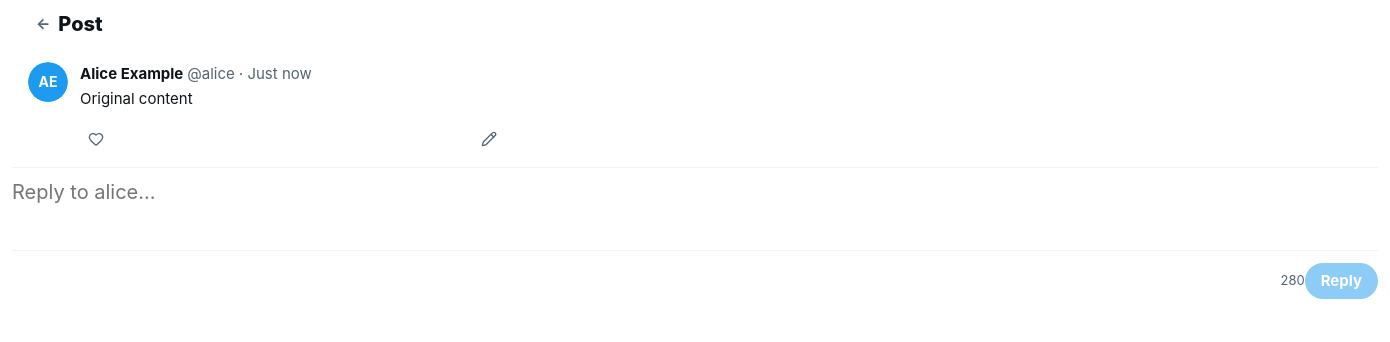
Test case: DirectPostPage › enters edit mode when edit clicked
The image size is (1390, 342).
What coordinates should you click on to do the following:
click the button with test id "post-edit-button-123"
I would click on:
 (489, 138)
Its box is [473, 122, 505, 154].
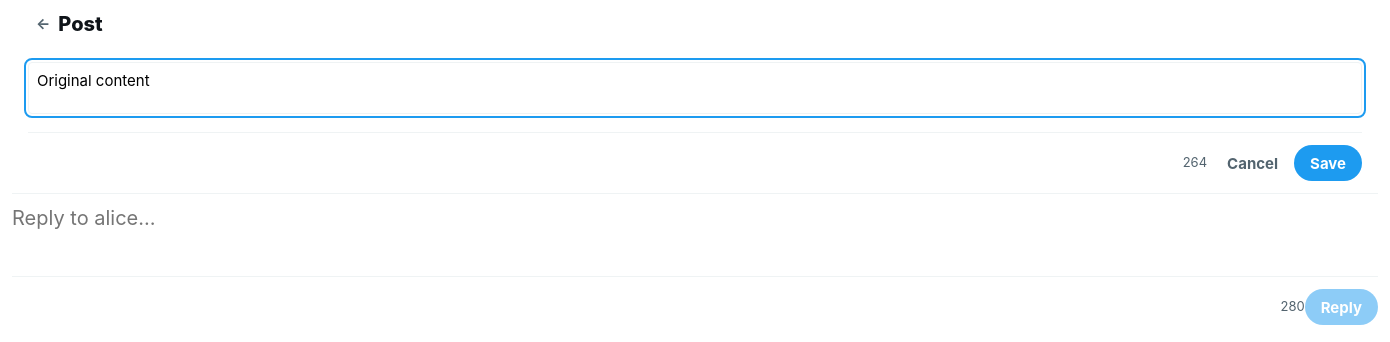
Expected: the text box with test id "post-editor-body-input-123" holds "Original content", [28, 62, 1362, 114]
